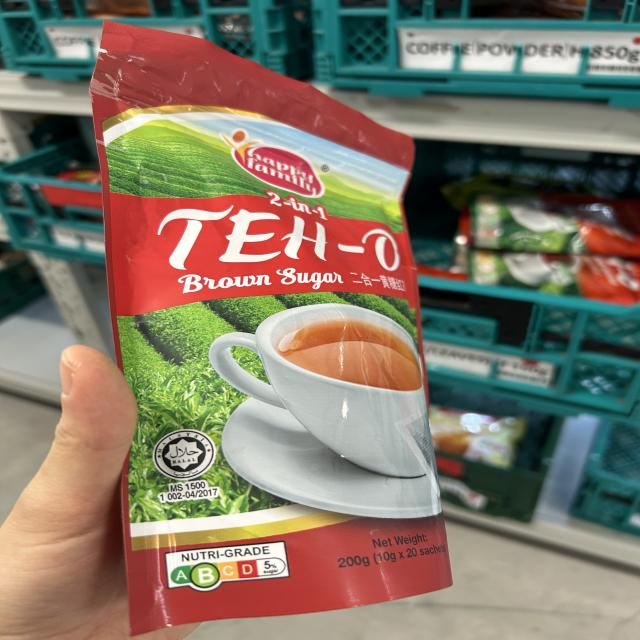object_name: (106, 40, 444, 605)
